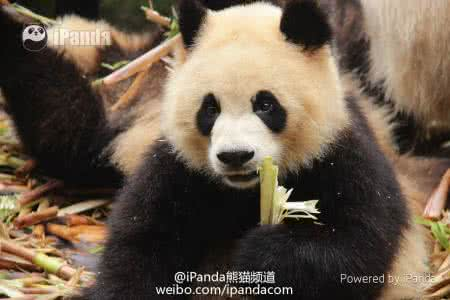panda: (89, 1, 434, 300)
